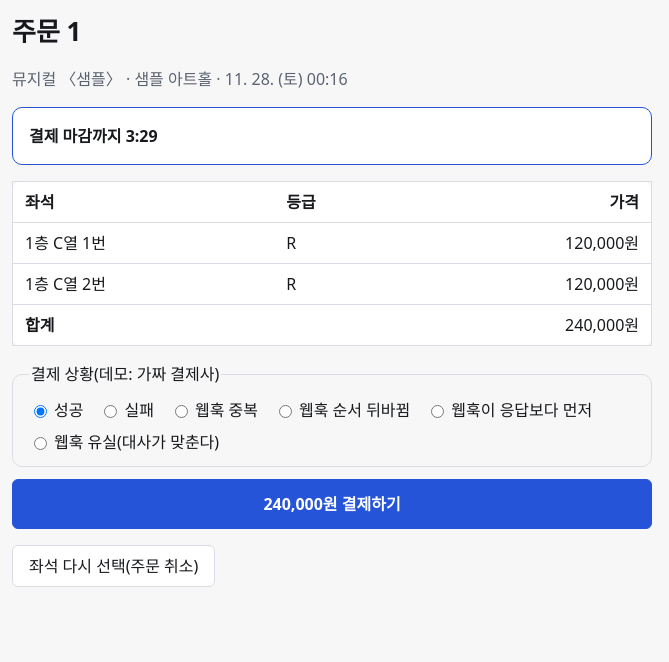
Test: 주문 화면 › 판매 종료 뒤 좌석 다시 선택은 다시 선점할 수 없다고 확인받는다
Click the button "좌석 다시 선택(주문 취소)". click: (114, 566)
box: [12, 545, 215, 587]
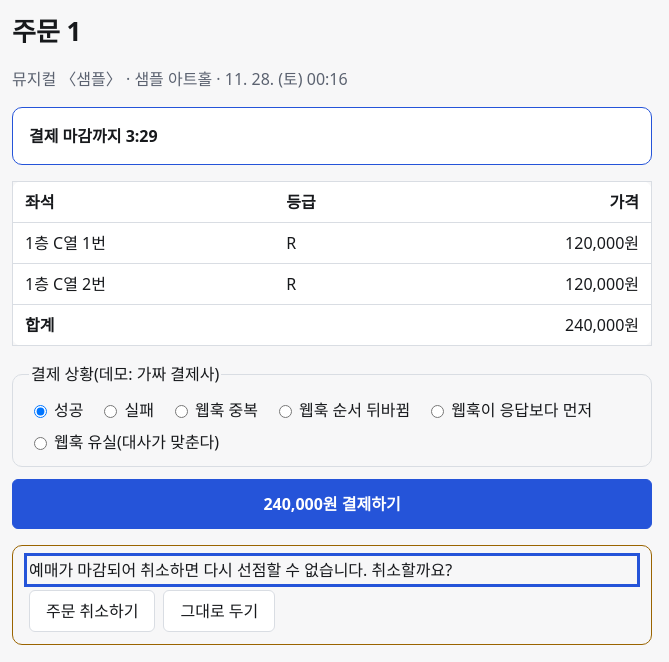
# 확인을 열면 질문으로, 그대로 두면 다시 연 버튼으로 포커스가 간다
Click the button "그대로 두기". click: (219, 611)
box: [164, 590, 275, 632]
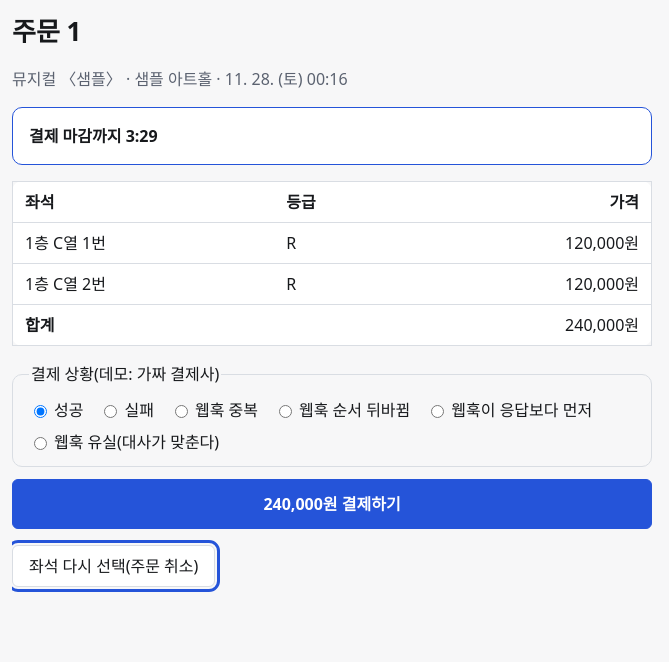
Result: the text "좌석 다시 선택(주문 취소)" is shown at [12, 545, 215, 587]
